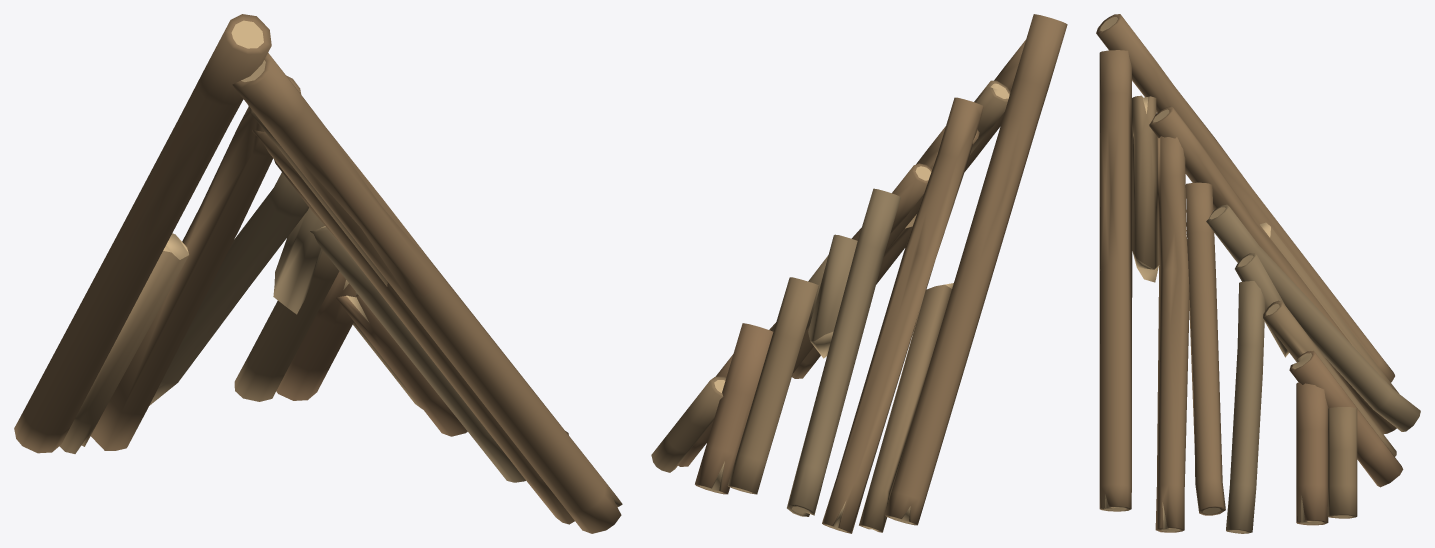
File: rpgpp_av_roof_01_6x5x3_corner_02.gltf
The picture shows the model from 3 angles, left to right: view 1: azimuth 30°, elevation 25°; view 2: azimuth 150°, elevation 25°; view 3: azimuth 270°, elevation 25°; orthographic projection. The views are drawn at different scales.
Visible parts, largest first — view 1: rpgpp_av_roof_01_6x5x3_corner_02; view 2: rpgpp_av_roof_01_6x5x3_corner_02; view 3: rpgpp_av_roof_01_6x5x3_corner_02.
Boxes of the visible parts, left/top/right/bottom form: rpgpp_av_roof_01_6x5x3_corner_02: left=14, top=14, right=622, bottom=533; rpgpp_av_roof_01_6x5x3_corner_02: left=651, top=14, right=1067, bottom=533; rpgpp_av_roof_01_6x5x3_corner_02: left=1096, top=14, right=1420, bottom=533.
Size of the model in its own units: 0.0411 by 0.0584 by 0.0426.
1 material, 1 textured.
